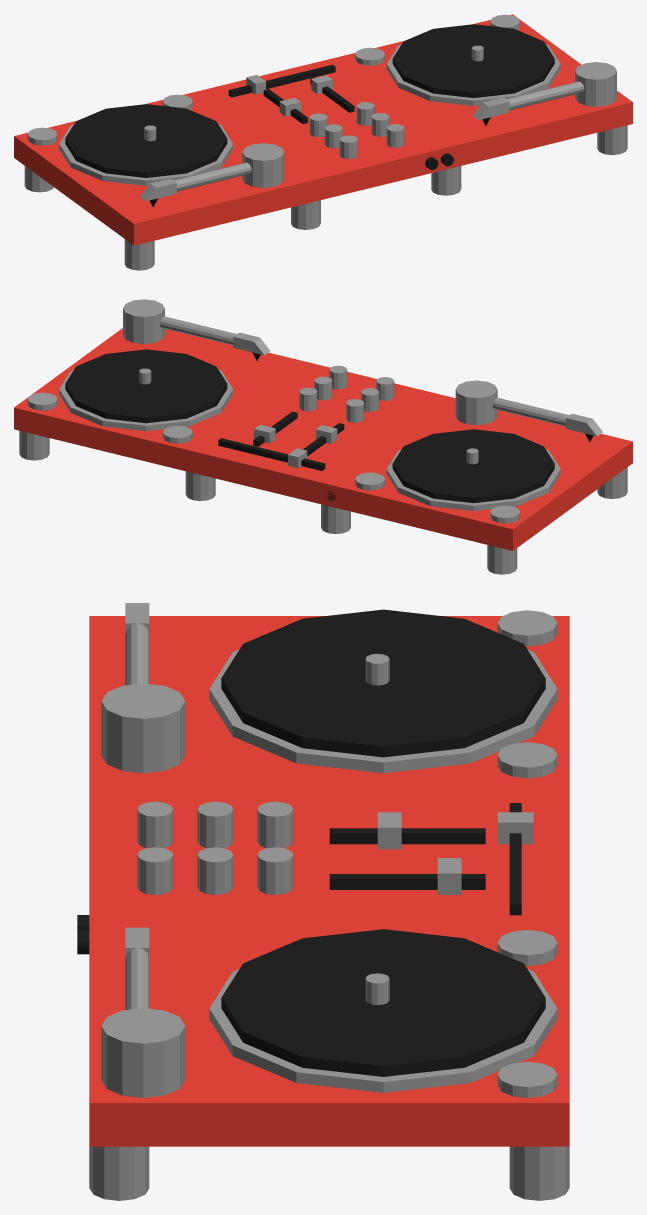
The model's file is All in one vinyl DJ unit.glb.
The picture shows the model from 3 angles, top to bottom: view 1: azimuth 30°, elevation 25°; view 2: azimuth 150°, elevation 25°; view 3: azimuth 270°, elevation 25°; orthographic projection. The views are drawn at different scales.
Visible parts, largest first — view 1: group506664534, group2099053793, group1538053697, group318677946, group453955210, group1603577383, group520456200, group1904444333, group610890797, group1974448610, group115962689, group1857974342 (+47 smaller); view 2: group2099053793, group506664534, group453955210, group318677946, group1538053697, group1603577383, group1904444333, group610890797, group805902650, group1974448610, group398142237, group740618632 (+47 smaller); view 3: group506664534, group2099053793, group453955210, group318677946, group1538053697, group1603577383, group1029474664, group1091103718, group1671291249, group776227992, group715800335, group38608308 (+78 smaller).
Boxes of the visible parts, left/top/right/bottom form: group506664534: left=65, top=104, right=227, bottom=177; group2099053793: left=392, top=24, right=554, bottom=97; group1538053697: left=242, top=143, right=284, bottom=187; group318677946: left=386, top=44, right=560, bottom=105; group453955210: left=59, top=124, right=233, bottom=185; group1603577383: left=575, top=62, right=616, bottom=106; group520456200: left=122, top=210, right=154, bottom=245; group1904444333: left=506, top=81, right=584, bottom=110; group610890797: left=173, top=162, right=251, bottom=191; group1974448610: left=228, top=64, right=335, bottom=97; group115962689: left=124, top=239, right=154, bottom=270; group1857974342: left=431, top=166, right=461, bottom=195; group2099053793: left=65, top=349, right=227, bottom=423; group506664534: left=392, top=429, right=554, bottom=503; group453955210: left=386, top=449, right=560, bottom=510; group318677946: left=59, top=369, right=233, bottom=431; group1538053697: left=455, top=380, right=497, bottom=425; group1603577383: left=123, top=299, right=164, bottom=344; group1904444333: left=160, top=316, right=236, bottom=345; group610890797: left=492, top=397, right=569, bottom=426; group805902650: left=492, top=519, right=524, bottom=550; group1974448610: left=218, top=438, right=325, bottom=470; group398142237: left=487, top=545, right=517, bottom=574; group740618632: left=185, top=471, right=215, bottom=500; group506664534: left=221, top=609, right=545, bottom=757; group2099053793: left=221, top=929, right=545, bottom=1076; group453955210: left=209, top=649, right=557, bottom=773; group318677946: left=209, top=969, right=557, bottom=1092; group1538053697: left=101, top=683, right=185, bottom=773; group1603577383: left=101, top=1008, right=185, bottom=1097; group1029474664: left=185, top=1082, right=233, bottom=1146; group1091103718: left=233, top=1082, right=281, bottom=1146; group1671291249: left=509, top=1146, right=569, bottom=1200; group776227992: left=89, top=1146, right=149, bottom=1200; group715800335: left=281, top=1082, right=329, bottom=1146; group38608308: left=425, top=1082, right=473, bottom=1146.
Bounding box in the file's own units: 0.96 × 0.14 × 0.41.
